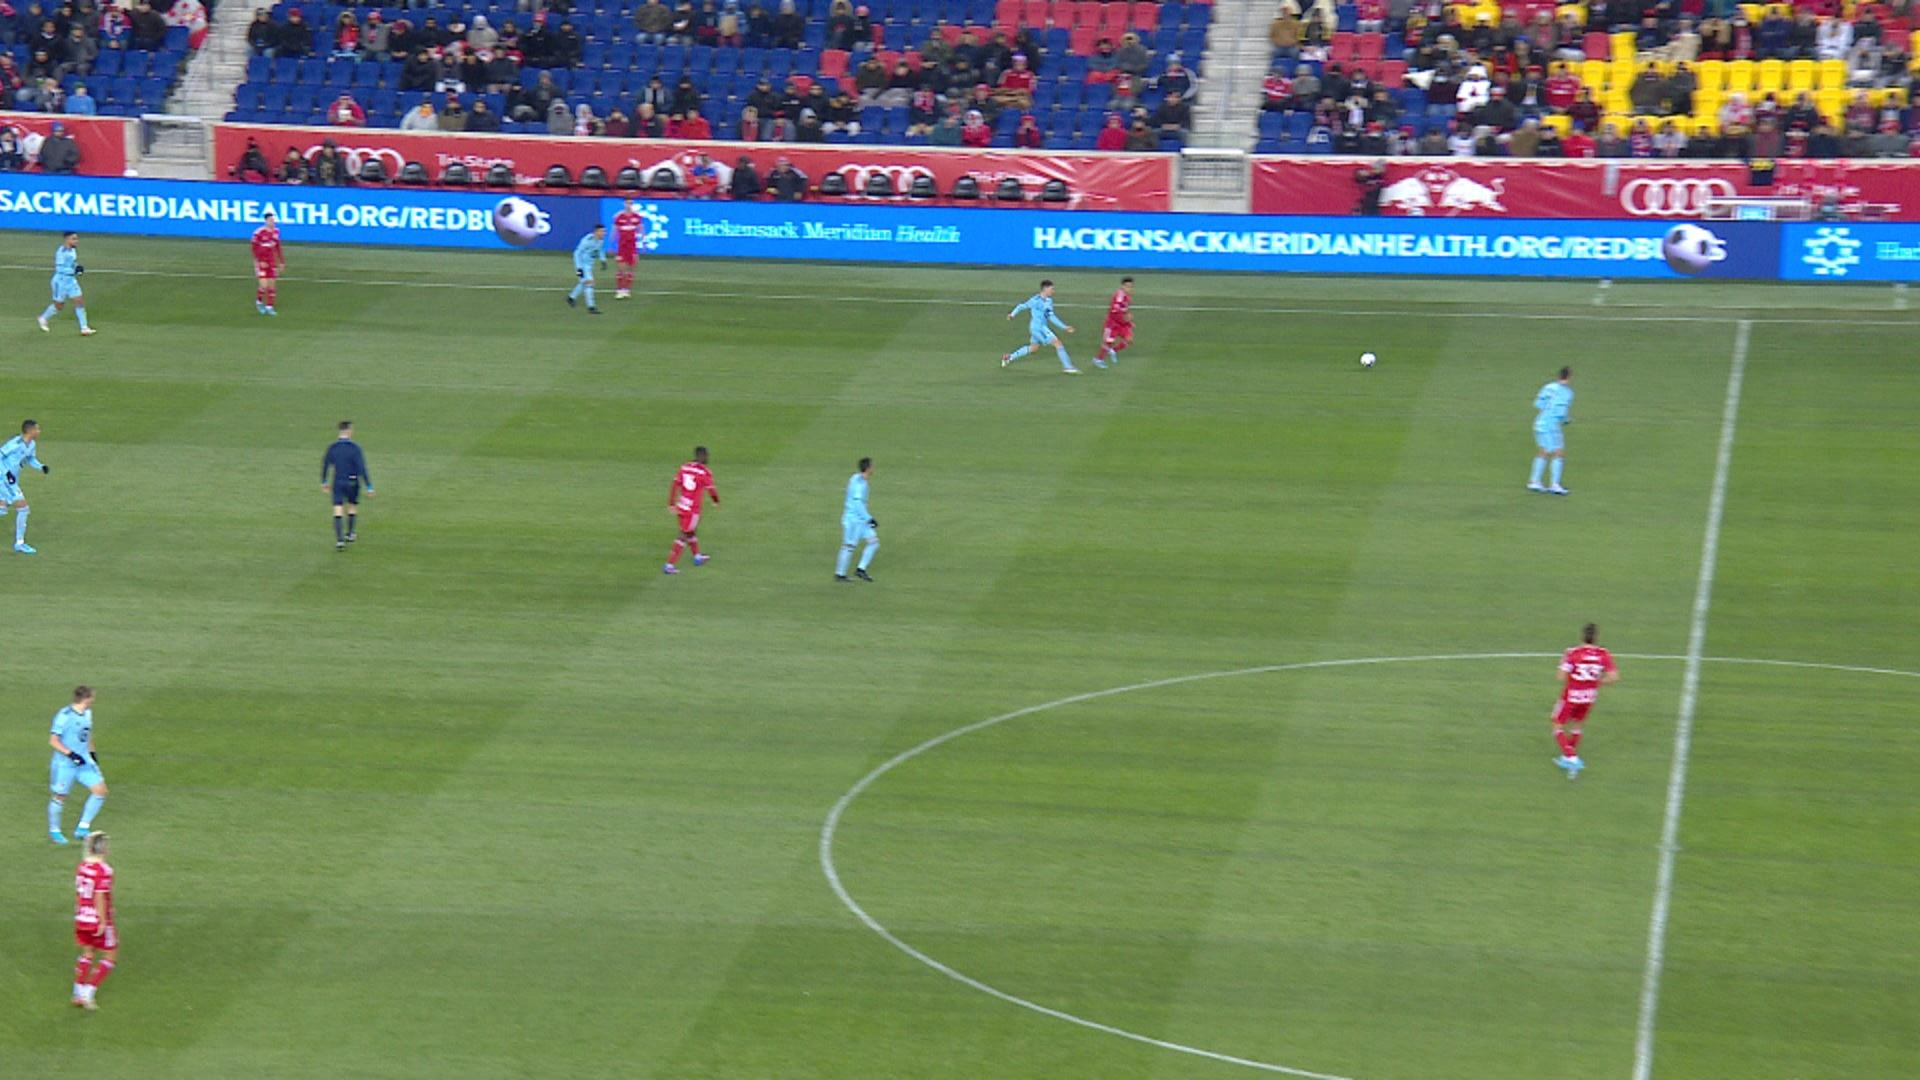football: (1360, 352, 1378, 368)
